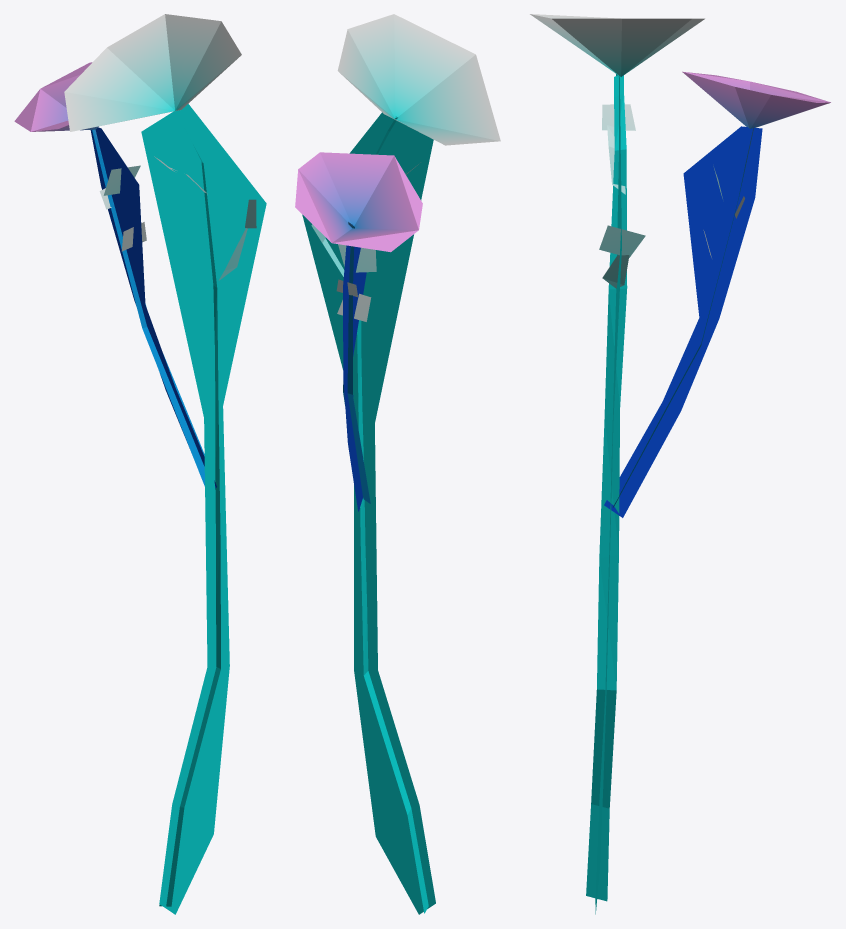
File: Nordic_Coastal_Groundcover_vlqkdeaja_Mid_vlqkdeaja_VarE_LOD0.fbx
The picture shows the model from 3 angles, left to right: view 1: azimuth 30°, elevation 25°; view 2: azimuth 150°, elevation 25°; view 3: azimuth 270°, elevation 25°; orthographic projection. The views are drawn at different scales.
Visible parts, largest first — view 1: _d8x3_VarE_LOD1; view 2: _d8x3_VarE_LOD1; view 3: _d8x3_VarE_LOD1.
Part boxes in pixels (x1,y1,x2,y2): _d8x3_VarE_LOD1: (14,14,266,914); _d8x3_VarE_LOD1: (295,14,500,914); _d8x3_VarE_LOD1: (530,14,830,914).
Bounding box in the file's own units: 6.5 × 27.48 × 8.12.
